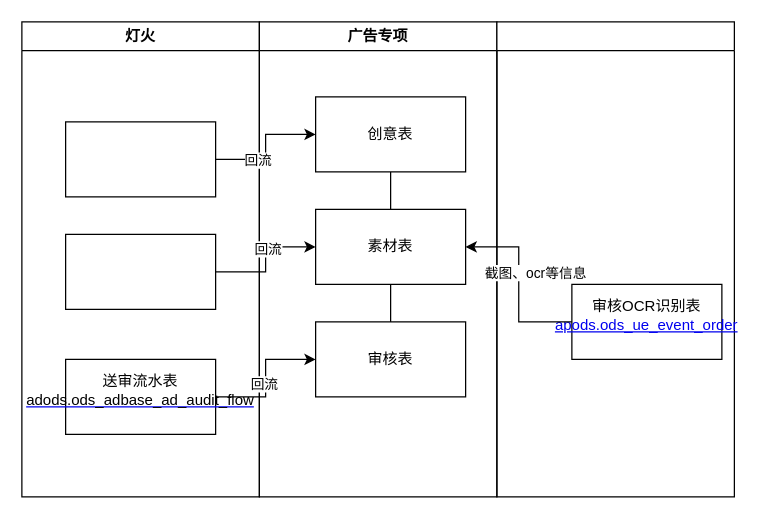
This 760x519 diagram has some shape labels left out. The box of each missing label's shape, as (x1, y1, x2, y2) in pixels:
GR: (496, 21, 734, 497)
创意素材表 adods.ods_adbase_ad_material: (64, 233, 216, 309)
广告创意表 adcdm.dim_asr_ad_adv_creative: (64, 121, 216, 197)
